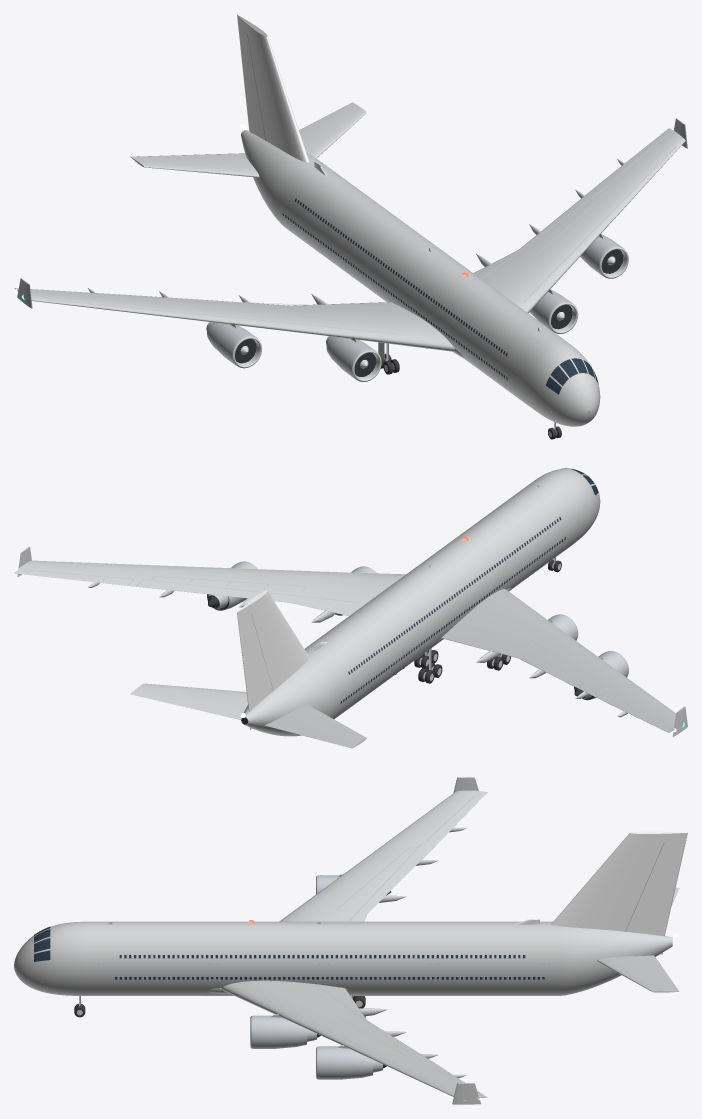
3 views of the same model, one above another, from view 1: azimuth 30°, elevation 25°; view 2: azimuth 150°, elevation 25°; view 3: azimuth 270°, elevation 25° (orthographic). The views are drawn at different scales.
Parts seen in each view (by area): view 1: airframe; view 2: airframe, gear; view 3: airframe.
Part boxes in pixels (left/top/right/bottom): airframe: left=14, top=14, right=687, bottom=426; airframe: left=14, top=468, right=687, bottom=748; gear: left=395, top=557, right=561, bottom=683; airframe: left=14, top=777, right=687, bottom=1104.
Size of the model in its own units: 80.69 by 22.24 by 74.37.
